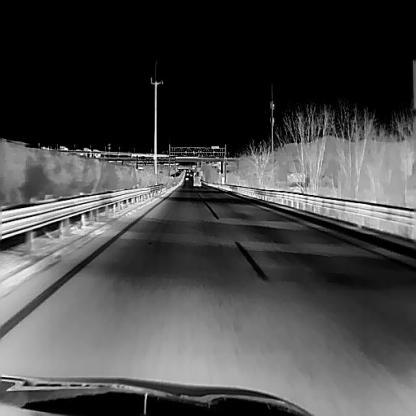truck: (192, 170, 201, 185)
